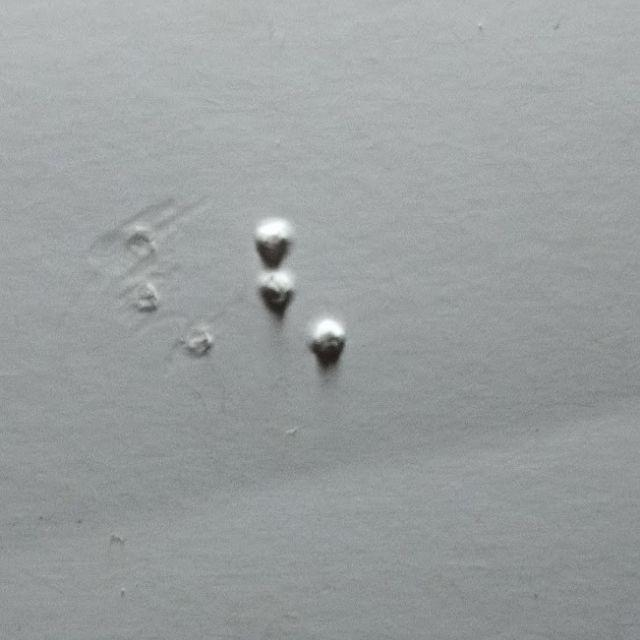ng: (255, 220, 347, 370)
